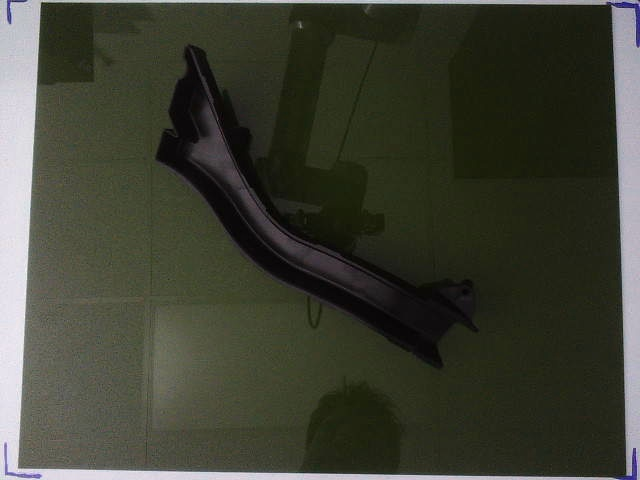887_A-Under: (156, 45, 477, 370)
